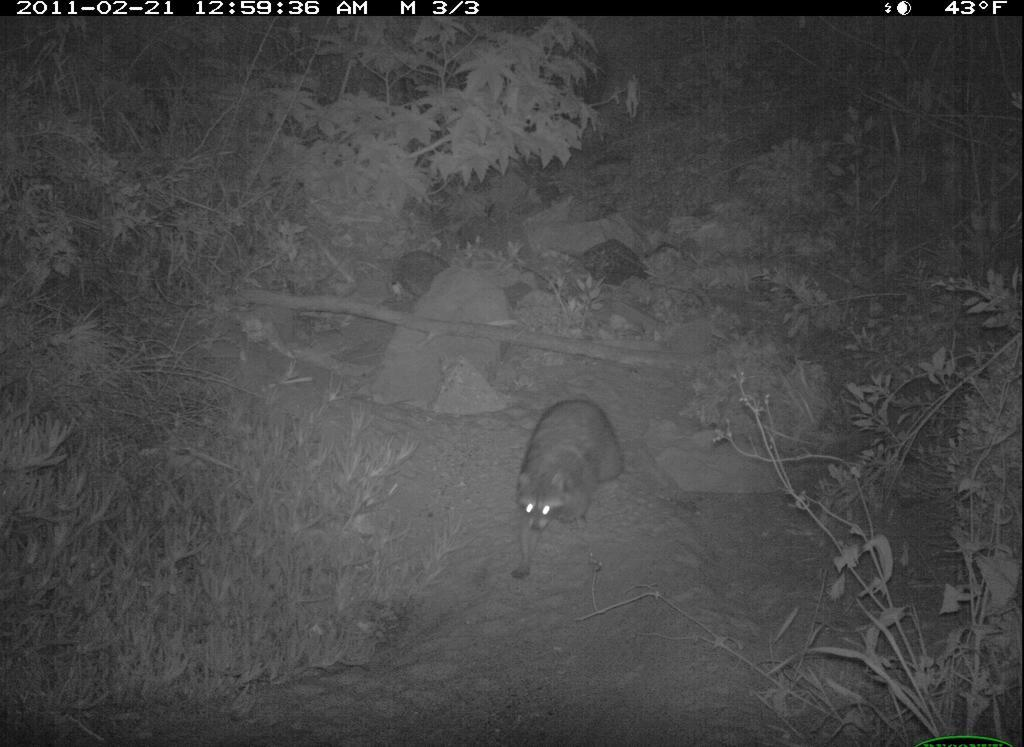raccoon: (506, 381, 632, 591)
